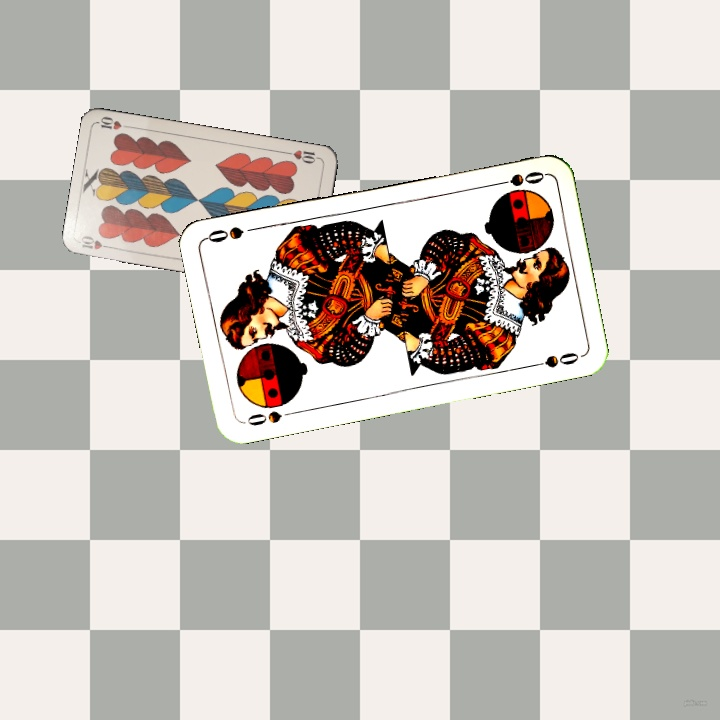H10: (282, 145, 322, 166), (77, 231, 116, 252)
SO: (240, 406, 298, 429), (488, 167, 547, 189)
